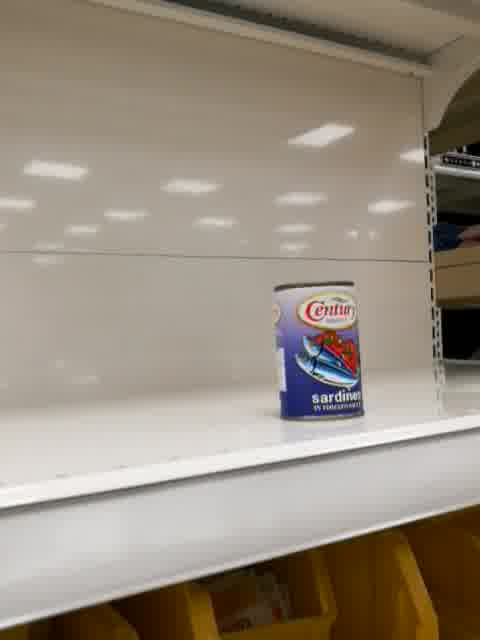sardine: (272, 280, 364, 423)
